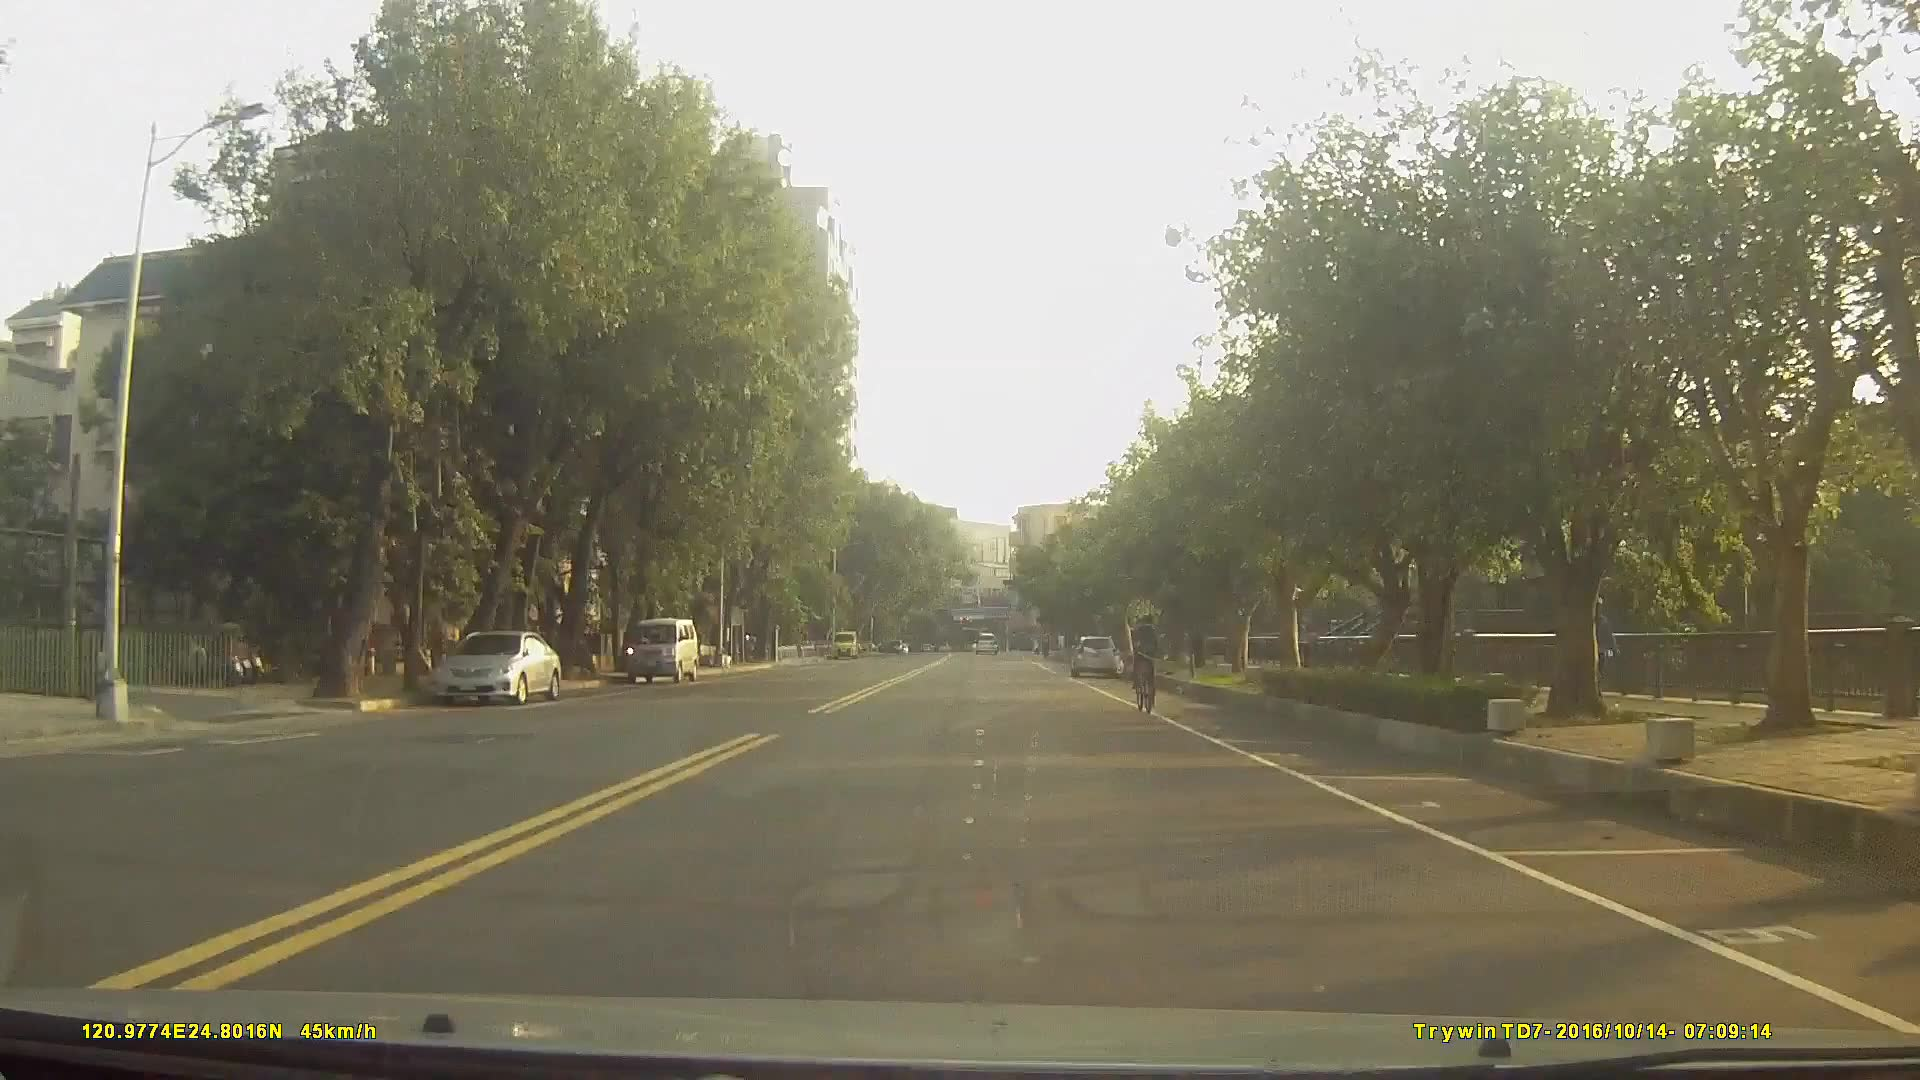rider: (1128, 613, 1164, 715)
vehicle: (428, 627, 559, 704), (623, 614, 698, 680), (1068, 634, 1120, 678), (973, 628, 998, 654)
